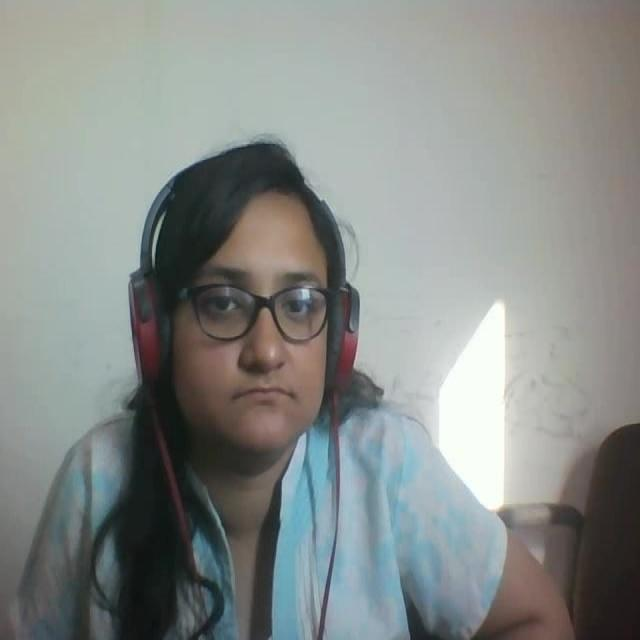Engaged: (124, 121, 371, 492)
